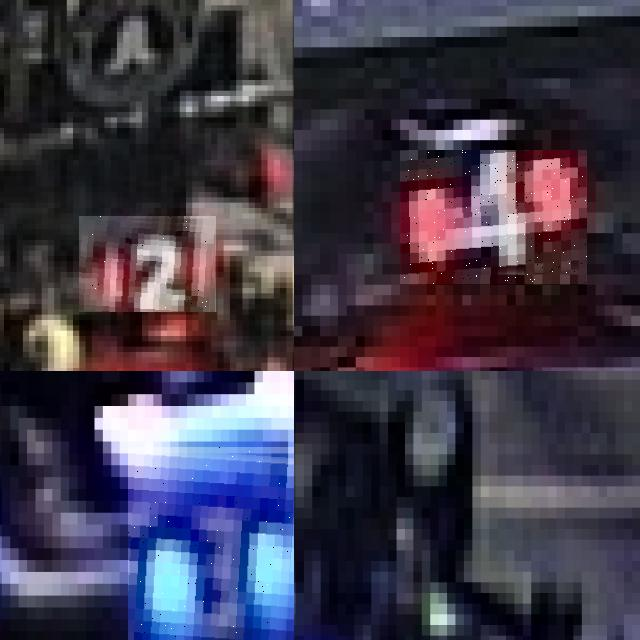B3: (128, 447, 294, 640)
R2: (80, 216, 218, 312)
R4: (400, 150, 587, 284)
